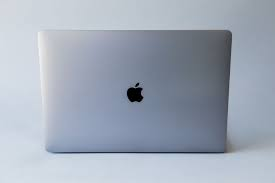apple: (121, 78, 151, 106)
